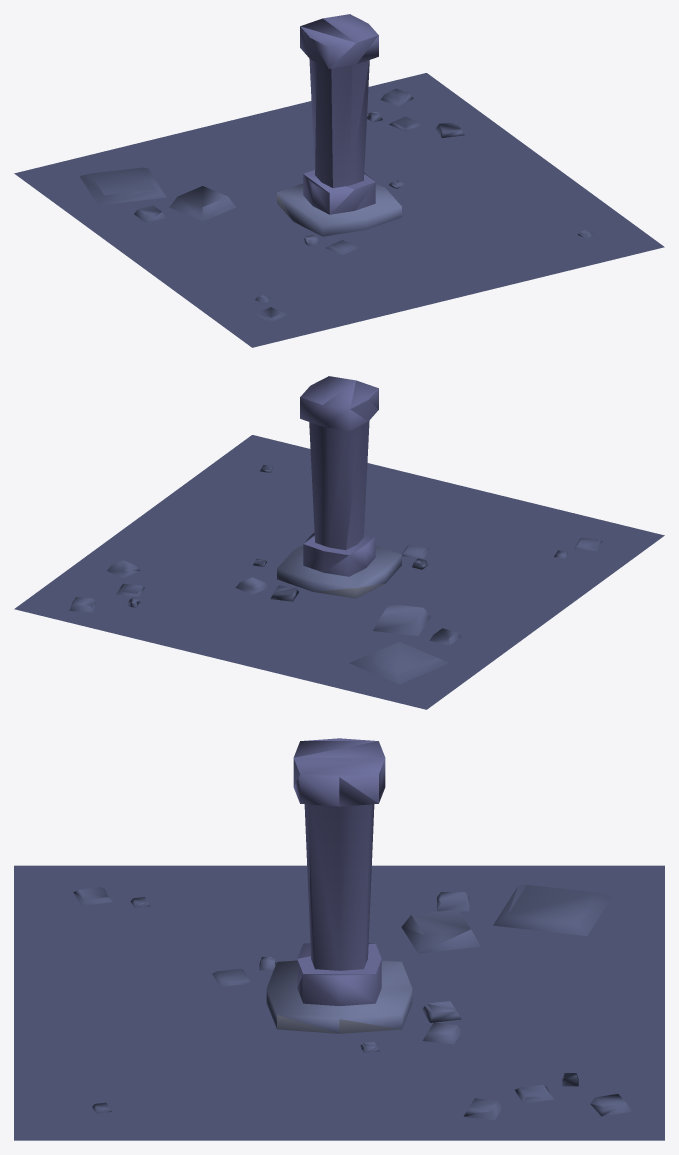
The model's file is template-floor-big_lev2.glb.
The picture shows the model from 3 angles, top to bottom: view 1: azimuth 30°, elevation 25°; view 2: azimuth 150°, elevation 25°; view 3: azimuth 270°, elevation 25°; orthographic projection. The views are drawn at different scales.
Visible parts, largest first — view 1: template-floor-big_lev2; view 2: template-floor-big_lev2; view 3: template-floor-big_lev2.
Boxes of the visible parts, left/top/right/bottom form: template-floor-big_lev2: left=14, top=14, right=664, bottom=347; template-floor-big_lev2: left=14, top=376, right=664, bottom=709; template-floor-big_lev2: left=14, top=738, right=664, bottom=1140.
Size of the model in its own units: 8 by 3.33 by 8.
1 material, 1 textured.
